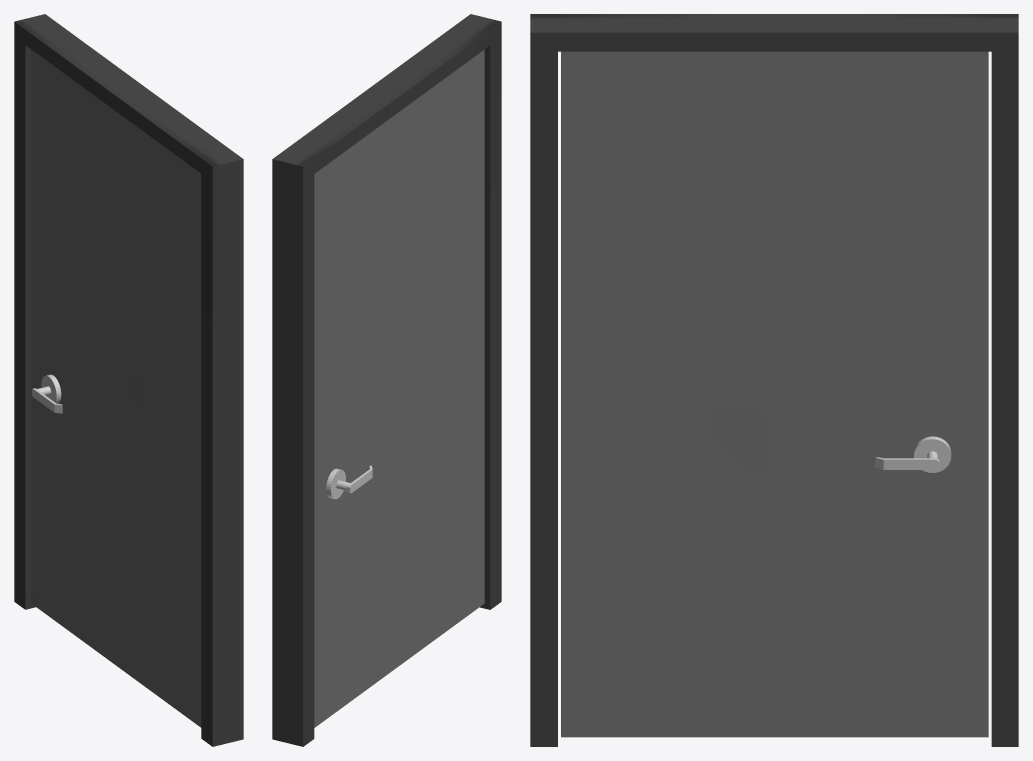
Rendered from door.fbx.
The picture shows the model from 3 angles, left to right: view 1: azimuth 30°, elevation 25°; view 2: azimuth 150°, elevation 25°; view 3: azimuth 270°, elevation 25°; orthographic projection. The views are drawn at different scales.
Visible parts, largest first — view 1: Cube, Cube.003; view 2: Cube, Cube.003; view 3: Cube, Cube.003.
Part boxes in pixels (box(x1,y1,x2,y2)): Cube: box(31, 49, 201, 727); Cube.003: box(14, 14, 243, 746); Cube: box(314, 49, 484, 727); Cube.003: box(272, 14, 501, 746); Cube: box(561, 51, 988, 737); Cube.003: box(530, 14, 1018, 746).
Size of the model in its own units: 26.56 by 240 by 148.
